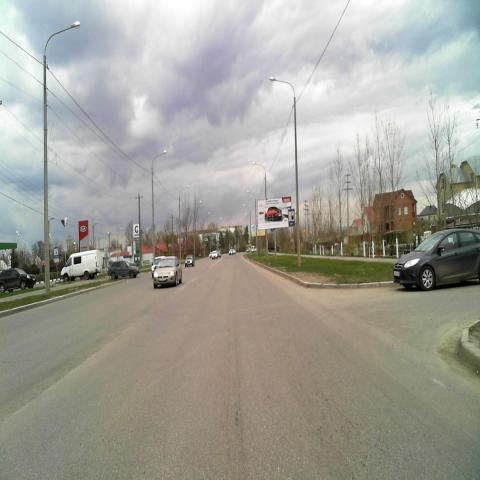7_3: (288, 208, 295, 226)
